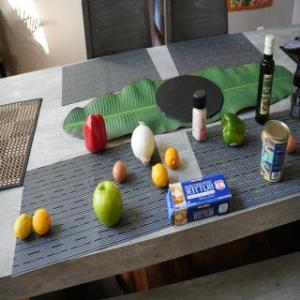bell_pepper: (81, 113, 109, 157), (219, 111, 246, 147)
egg: (112, 160, 126, 182), (283, 134, 297, 152)
onion: (130, 120, 156, 164)
